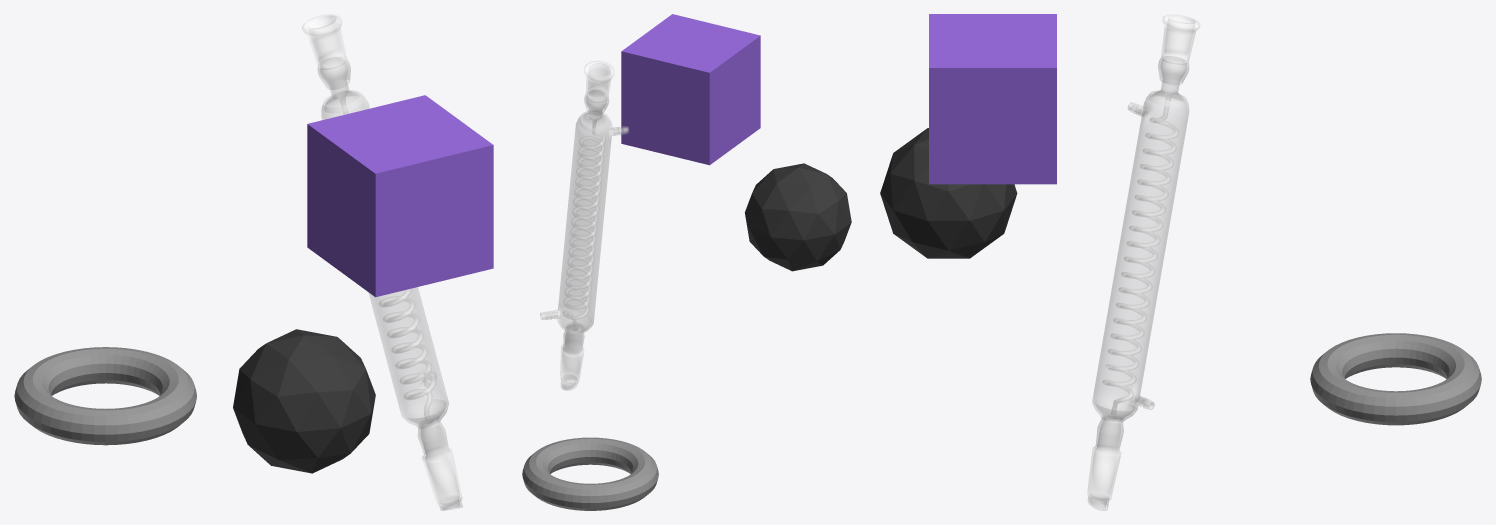
File: test_clean3.glb
The picture shows the model from 3 angles, left to right: view 1: azimuth 30°, elevation 25°; view 2: azimuth 150°, elevation 25°; view 3: azimuth 270°, elevation 25°; orthographic projection. The views are drawn at different scales.
Parts seen in each view (by area): view 1: Cube, Icosphere, Graham Condenser, Torus; view 2: Cube, Graham Condenser, Icosphere, Torus; view 3: Cube, Graham Condenser, Torus, Icosphere.
Part boxes in pixels (x1,y1,x2,y2): Cube: [307, 95, 493, 297]; Icosphere: [233, 329, 375, 473]; Graham Condenser: [302, 14, 462, 510]; Torus: [14, 347, 196, 445]; Cube: [621, 14, 760, 165]; Graham Condenser: [540, 61, 628, 390]; Icosphere: [744, 163, 851, 271]; Torus: [522, 437, 658, 510]; Cube: [929, 14, 1056, 184]; Graham Condenser: [1087, 14, 1200, 510]; Torus: [1310, 333, 1481, 425]; Icosphere: [880, 128, 1017, 258].
Size of what is drawn, in the model's own units: 4.73 by 7.3 by 8.77.
